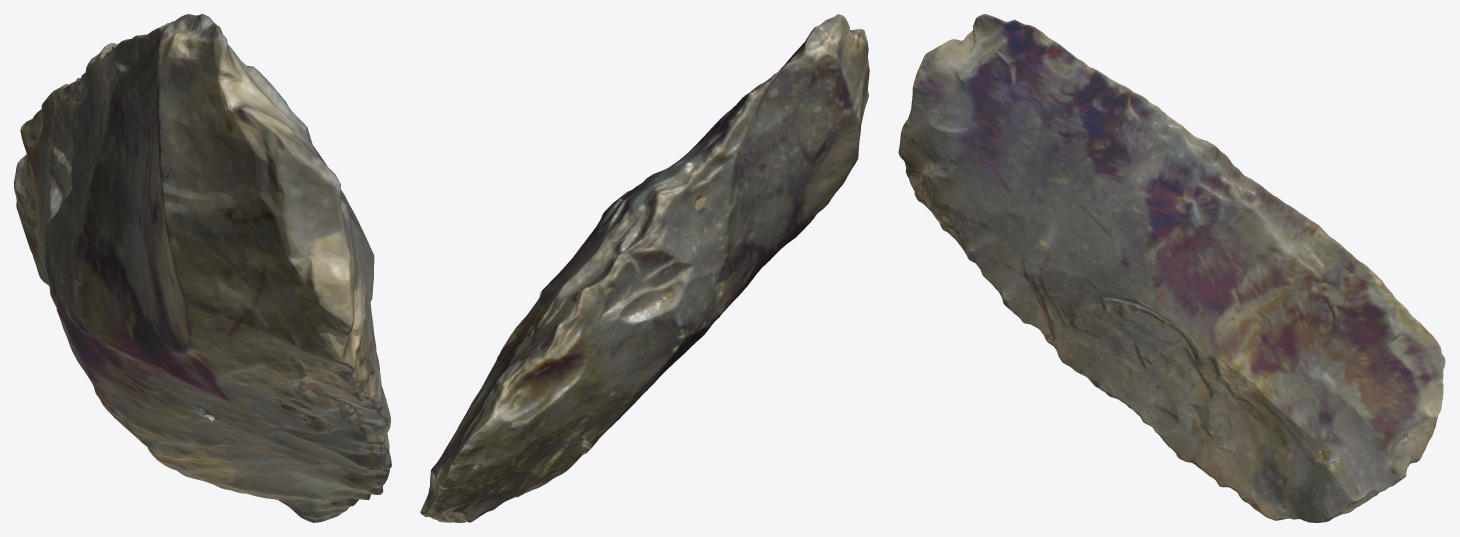
Rendered from flint_axe_a.glb.
The picture shows the model from 3 angles, left to right: view 1: azimuth 30°, elevation 25°; view 2: azimuth 150°, elevation 25°; view 3: azimuth 270°, elevation 25°; orthographic projection. The views are drawn at different scales.
Parts seen in each view (by area): view 1: Bijl2; view 2: Bijl2; view 3: Bijl2.
Part boxes in pixels (bbox=[...]): Bijl2: bbox=[14, 14, 391, 522]; Bijl2: bbox=[420, 14, 869, 522]; Bijl2: bbox=[898, 14, 1445, 522].
Bounding box in the file's own units: 0.5247 × 0.8814 × 1.06.
1 material, 1 textured.
